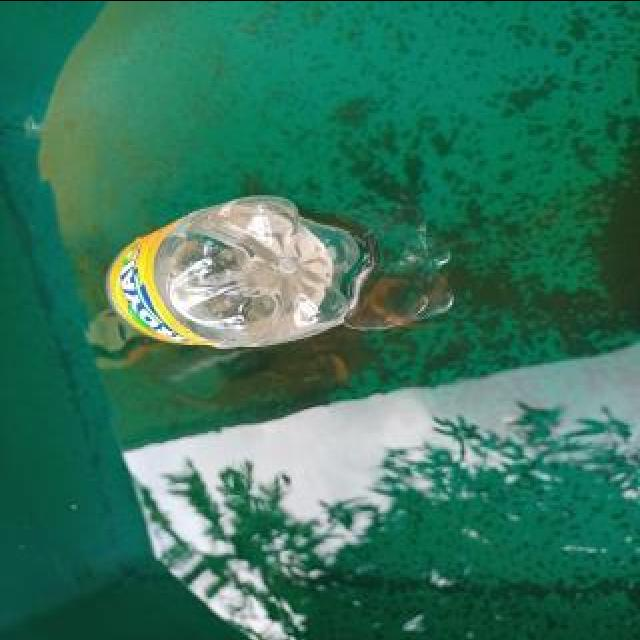Bottle: (106, 192, 372, 346)
